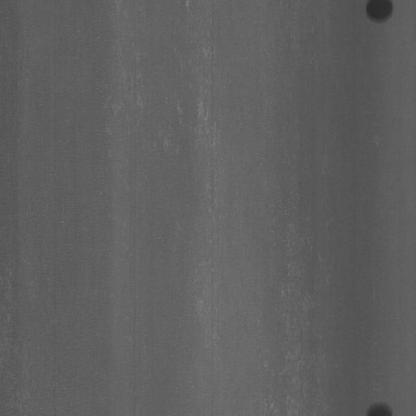oil_spot: (360, 0, 396, 31), (364, 398, 396, 414)
